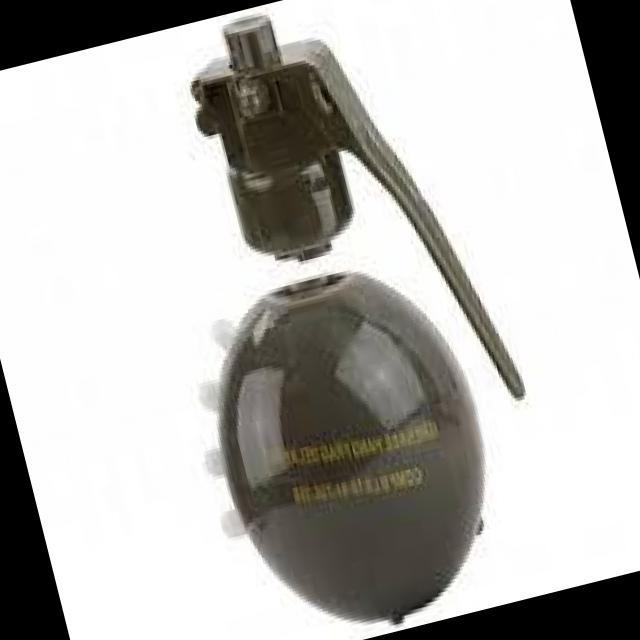grenade: (101, 0, 576, 640)
